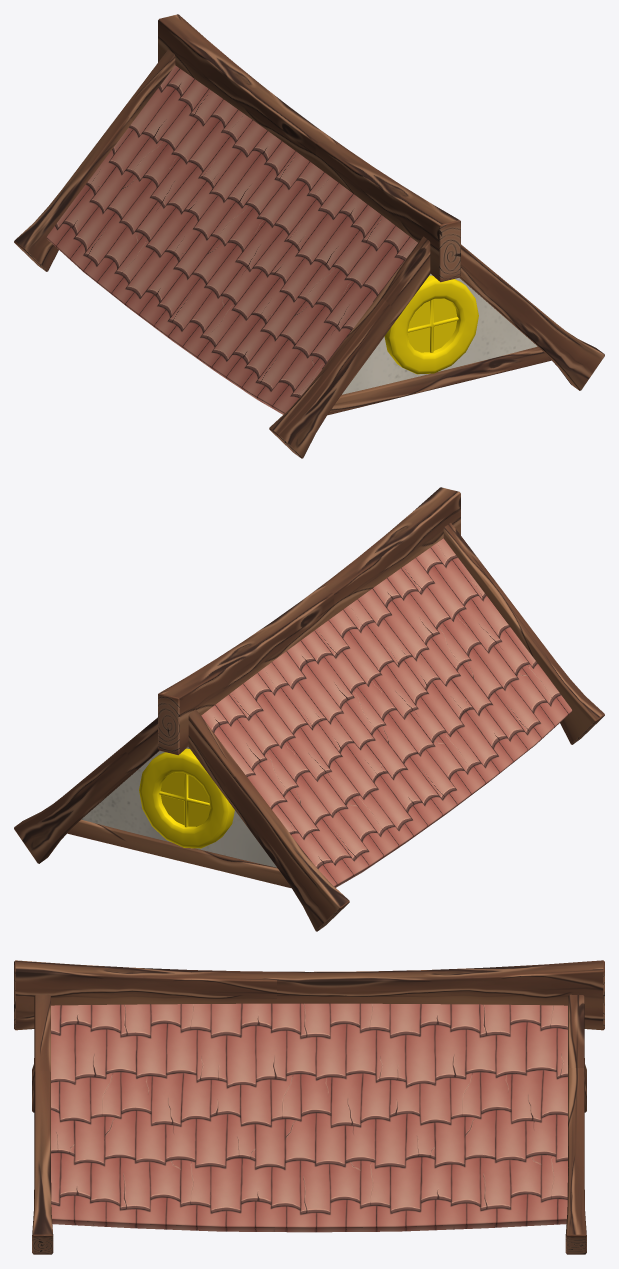
Rendered from house_roof1.FBX.
The picture shows the model from 3 angles, top to bottom: view 1: azimuth 30°, elevation 25°; view 2: azimuth 150°, elevation 25°; view 3: azimuth 270°, elevation 25°; orthographic projection. The views are drawn at different scales.
Parts seen in each view (by area): view 1: roof001; view 2: roof001; view 3: roof001.
Boxes of the visible parts, x1=… form: roof001: x1=14, y1=14, x2=604, y2=458; roof001: x1=14, y1=487, x2=604, y2=931; roof001: x1=14, y1=960, x2=604, y2=1254.
Size of the model in its own units: 501 by 306 by 750.
